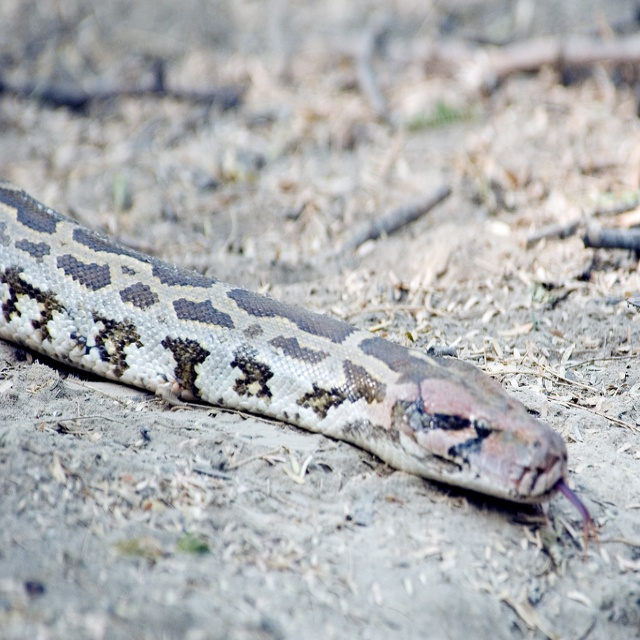Snake: (0, 174, 596, 557)
